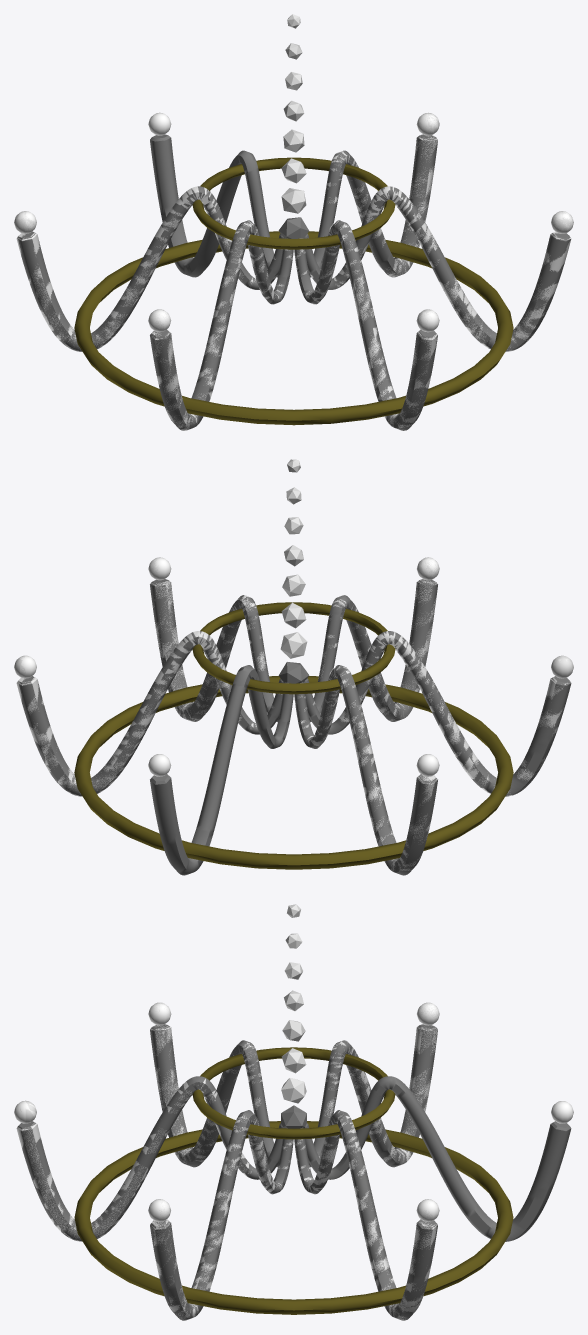
File: chandelier_1.fbx
3 renders of one model, top to bottom at view 1: azimuth 30°, elevation 25°; view 2: azimuth 150°, elevation 25°; view 3: azimuth 270°, elevation 25°, orthographic.
Visible parts, largest first — view 1: Cloner_2, Ring_2, Ring_1, S_instance_2, S_instance_5, S_instance_3, S_instance_4, Cloner_3, S_instance; view 2: Cloner_2, Ring_2, Ring_1, S_instance, S_instance_4, S_instance_5, Cloner_3, S_instance_2, S_instance_3, Platonic_1; view 3: Cloner_2, Ring_2, Ring_1, S_instance, S_instance_2, S_instance_3, Cloner_3, S_instance_5, S_instance_4.
Part boxes in pixels (<box>): Cloner_2: <box>17,134,570,430</box>; Ring_2: <box>74,231,513,425</box>; Ring_1: <box>192,157,395,249</box>; S_instance_2: <box>310,186,571,352</box>; S_instance_5: <box>16,186,282,352</box>; S_instance_3: <box>295,220,437,430</box>; S_instance_4: <box>151,221,292,430</box>; Cloner_3: <box>15,112,573,332</box>; S_instance: <box>326,135,437,277</box>; Cloner_2: <box>19,579,571,875</box>; Ring_2: <box>74,676,513,869</box>; Ring_1: <box>192,602,395,694</box>; S_instance: <box>16,631,282,796</box>; S_instance_4: <box>313,631,568,796</box>; S_instance_5: <box>295,665,437,872</box>; Cloner_3: <box>19,557,570,776</box>; S_instance_2: <box>151,581,267,721</box>; S_instance_3: <box>318,579,437,721</box>; Platonic_1: <box>280,632,307,658</box>; Cloner_2: <box>17,1024,571,1320</box>; Ring_2: <box>74,1121,513,1314</box>; Ring_1: <box>192,1047,395,1139</box>; S_instance: <box>295,1110,436,1320</box>; S_instance_2: <box>152,1112,293,1319</box>; S_instance_3: <box>16,1078,251,1241</box>; Cloner_3: <box>14,1002,573,1221</box>; S_instance_5: <box>319,1025,437,1162</box>; S_instance_4: <box>150,1024,262,1163</box>.
Size of the model in its own units: 63.38 by 48.37 by 72.71.
